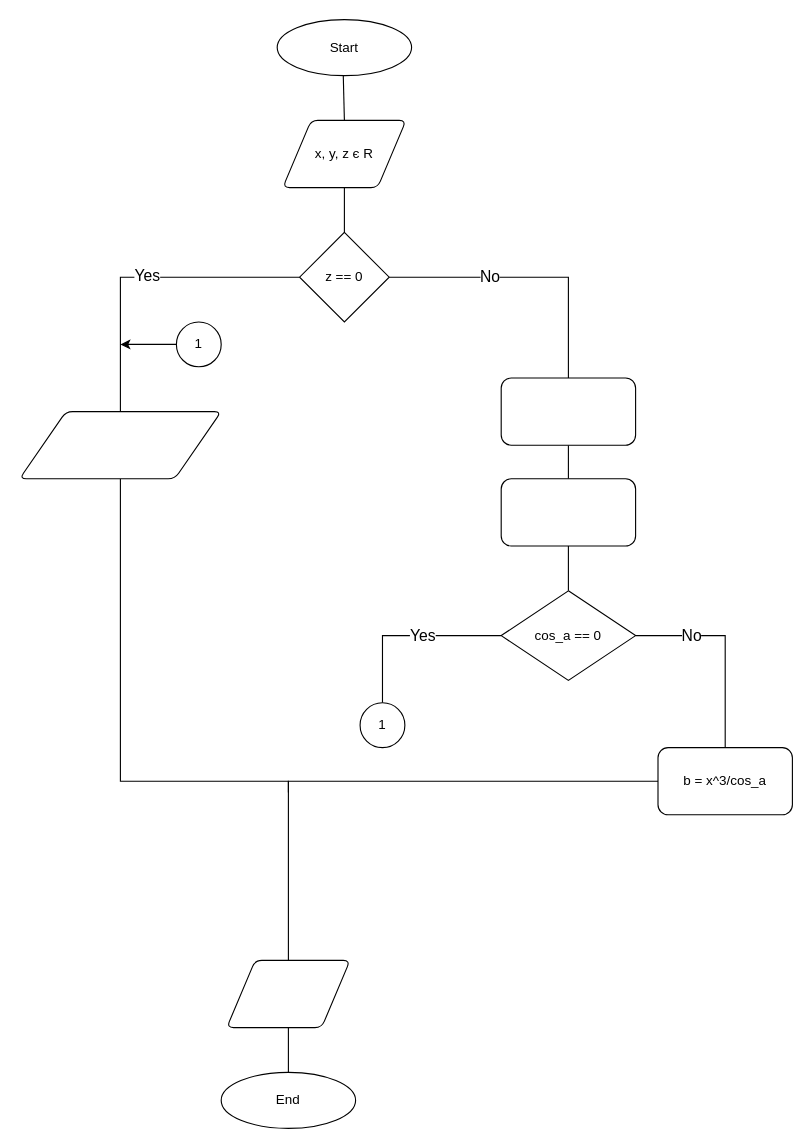
Some shapes in this 812 by 1148 pixel diagram are drawn without their labels. Each missing label, with the centre of its shape:
"a = Cos(x + x * y / z)" belongs at point (568, 411).
"a, b" belongs at point (288, 993).
"cos_a = Cos(a)" belongs at point (568, 512).
"Data is incorrect" belongs at point (119, 444).
